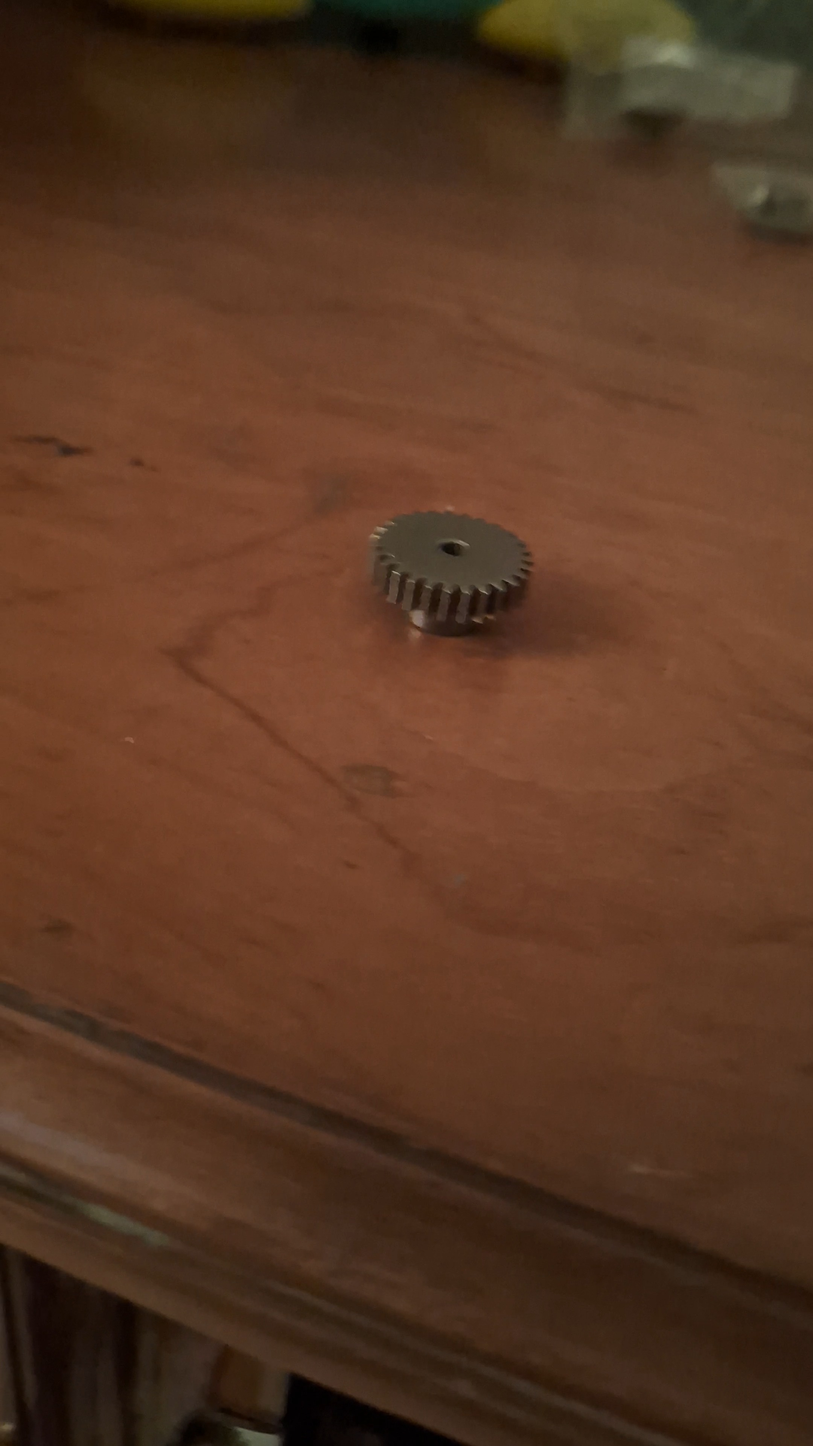spur gear: (370, 512, 532, 636)
